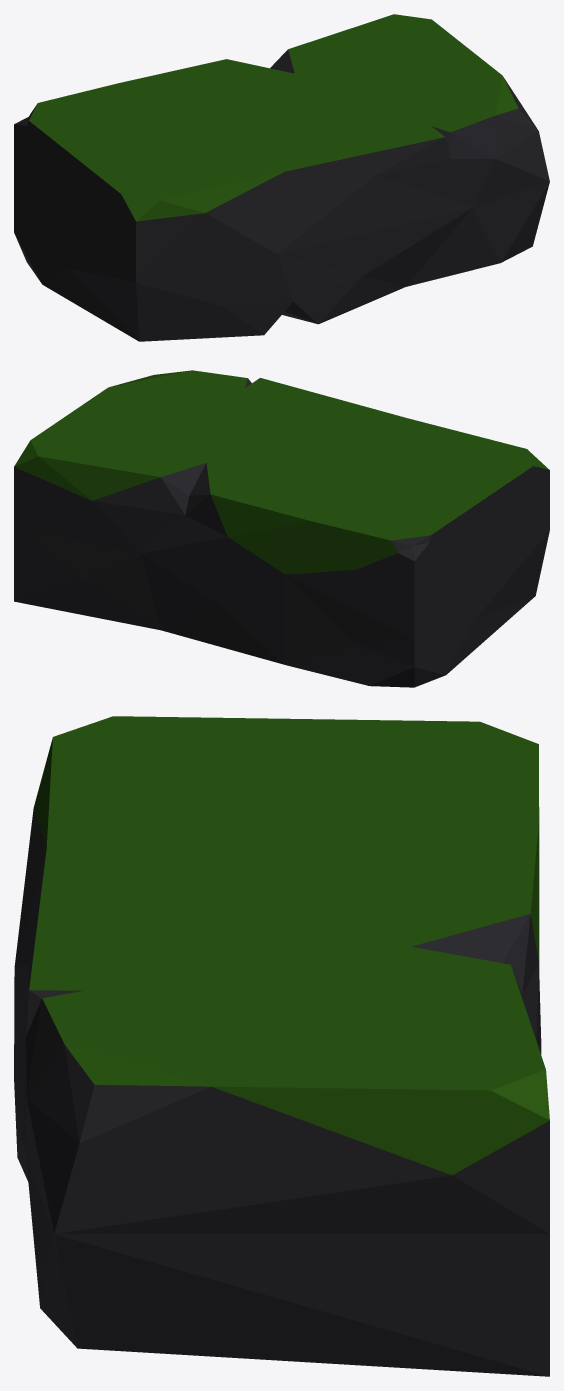
The model's file is Rock_001.FBX.
The picture shows the model from 3 angles, top to bottom: view 1: azimuth 30°, elevation 25°; view 2: azimuth 150°, elevation 25°; view 3: azimuth 270°, elevation 25°; orthographic projection. The views are drawn at different scales.
Visible parts, largest first — view 1: Rock_052; view 2: Rock_052; view 3: Rock_052.
Boxes of the visible parts, x1=… form: Rock_052: x1=14, y1=14, x2=549, y2=341; Rock_052: x1=14, y1=370, x2=549, y2=687; Rock_052: x1=14, y1=716, x2=549, y2=1376.
Bounding box in the file's own units: 68.94 × 24.05 × 40.94.
